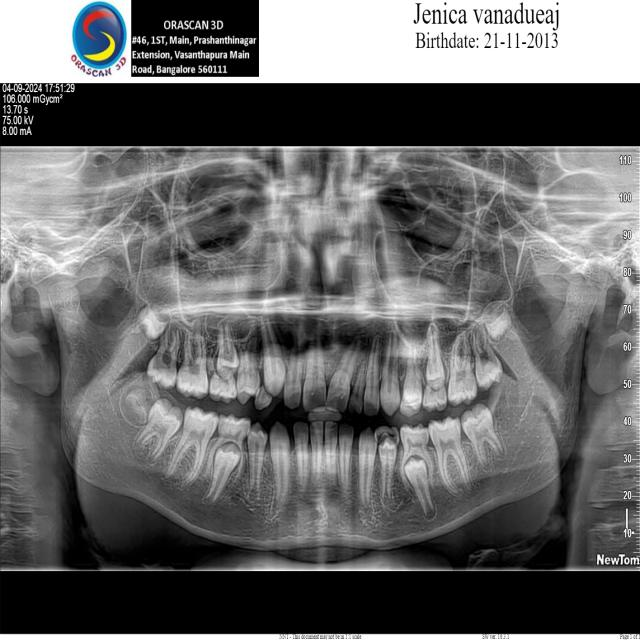Premolars: (374, 426, 400, 504)
